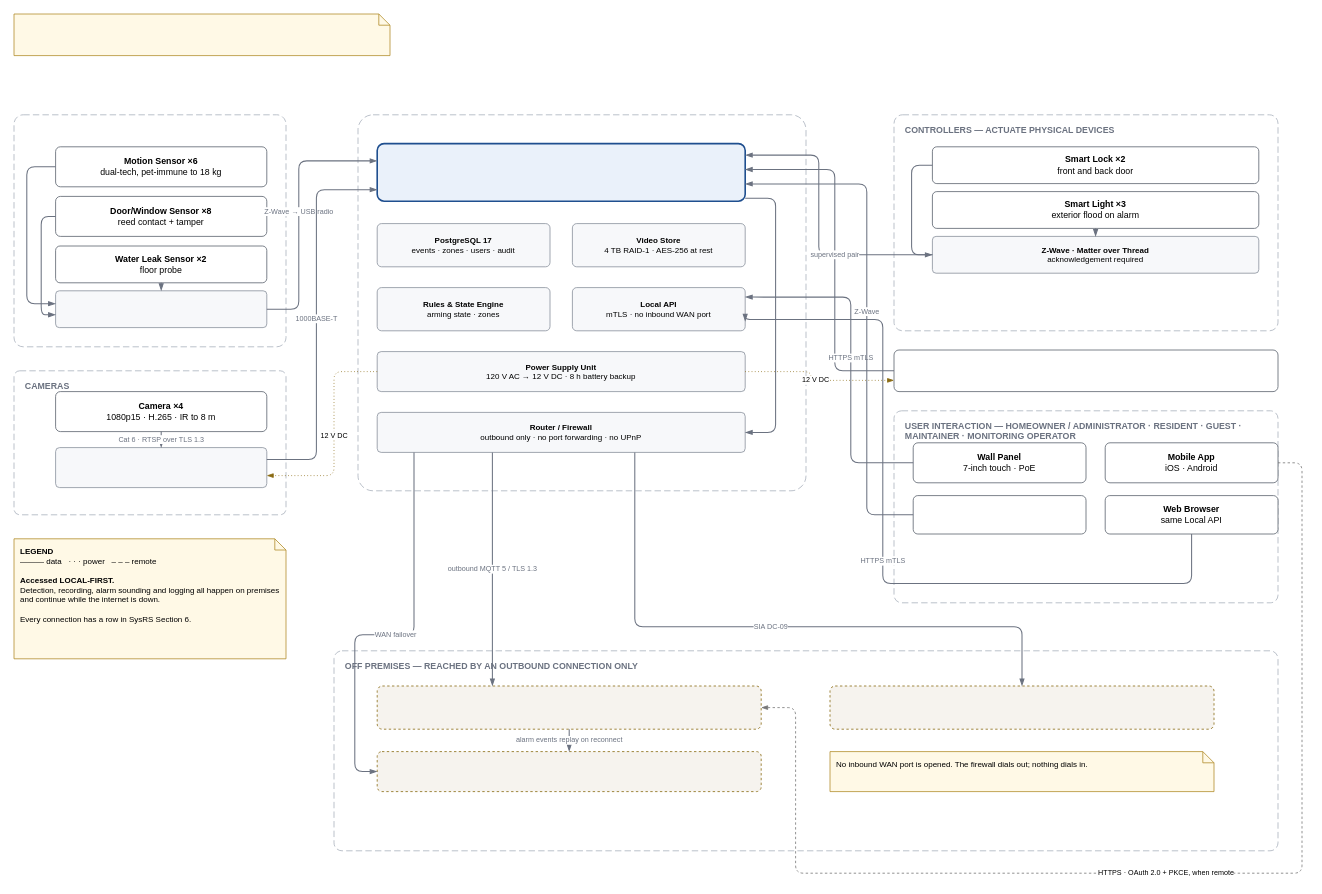
Image size: 1322x894. Some labels were removed from this diagram. Here are the shapes that lost their labels. From the top down, the box of each, then its label:
(13, 13, 390, 56): Smart Home Security System — Architecture Ty · v1.0 · 5 November 2026
(376, 142, 746, 202): Control Unit Smart Home Manager · Debian Linux
(13, 114, 286, 347): SENSORS
(55, 290, 267, 328): Z-Wave 908.42 MHz mesh AES-128 · S2 Authenticated
(357, 114, 806, 491): SERVER — ON PREMISES, INSIDE THE DWELLING
(893, 349, 1278, 392): Alarm Annunciator interior 85 dBA @ 3 m · exterior + strobe
(55, 447, 267, 488): PoE Network Switch 802.3af · 12 V → 48 V · VLAN
(912, 495, 1086, 534): Key Fob arm · disarm · panic
(376, 685, 761, 729): Cloud Relay Service MQTT 5 over TLS 1.3 · push · alarm clips only
(829, 685, 1214, 729): Monitoring Service (optional) SIA DC-09 over TLS 1.3
(376, 751, 761, 792): LTE Failover Modem alarm events only, not video
